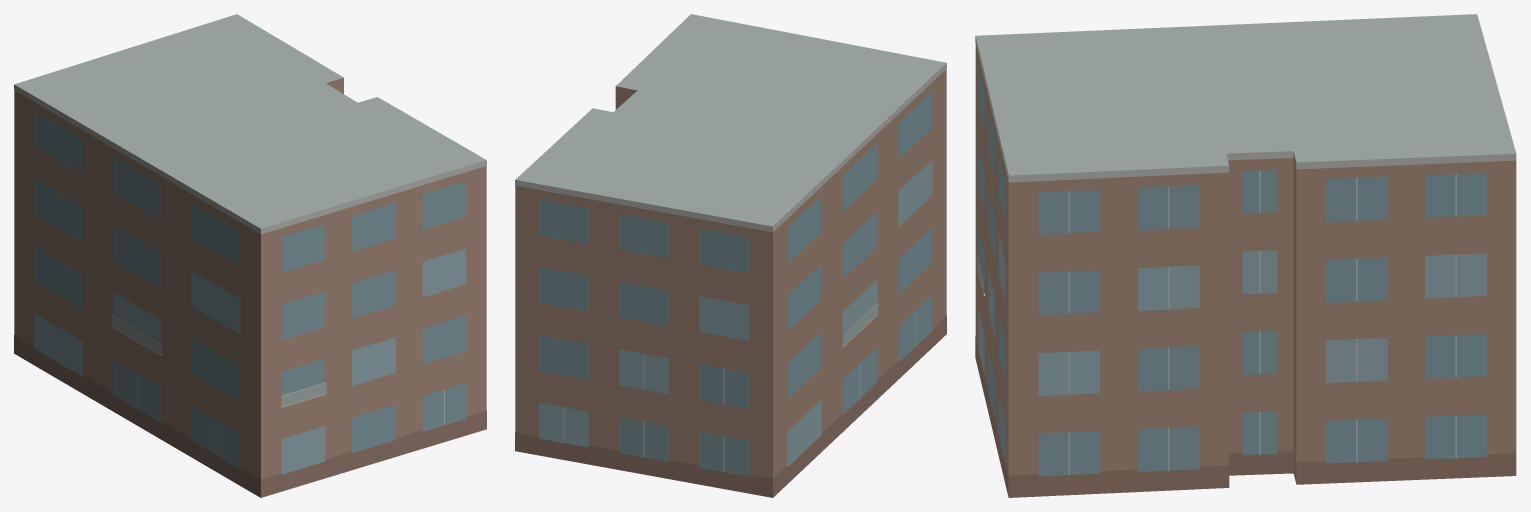
The model's file is survey-upis-32925967.glb.
The picture shows the model from 3 angles, left to right: view 1: azimuth 30°, elevation 25°; view 2: azimuth 150°, elevation 25°; view 3: azimuth 270°, elevation 25°; orthographic projection. The views are drawn at different scales.
Parts seen in each view (by area): view 1: survey-upis-32925967.tmp; view 2: survey-upis-32925967.tmp; view 3: survey-upis-32925967.tmp.
Part boxes in pixels (bbox=[...]): survey-upis-32925967.tmp: bbox=[14, 14, 486, 497]; survey-upis-32925967.tmp: bbox=[515, 14, 946, 497]; survey-upis-32925967.tmp: bbox=[975, 14, 1516, 497].
Bounding box in the file's own units: 12.39 × 11.5 × 17.51.
